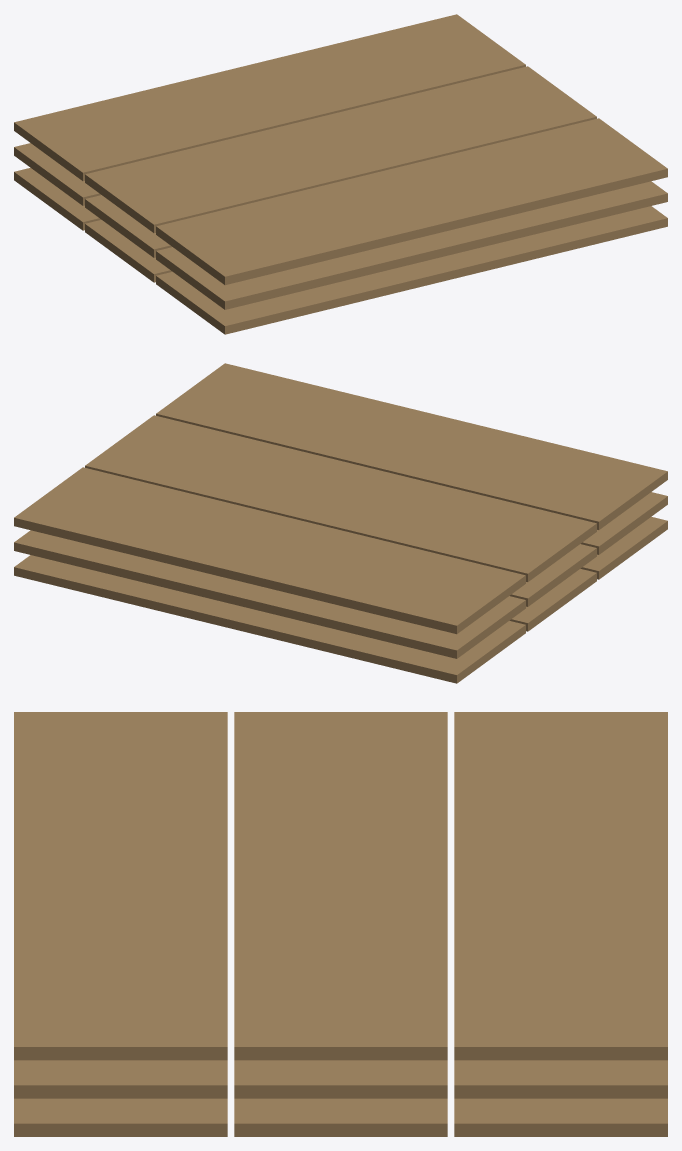
File: pallet-wooden-1200.glb
3 renders of one model, top to bottom at view 1: azimuth 30°, elevation 25°; view 2: azimuth 150°, elevation 25°; view 3: azimuth 270°, elevation 25°, orthographic. The views are drawn at different scales.
Parts seen in each view (by area): view 1: world; view 2: world; view 3: world.
Boxes of the visible parts, left/top/right/bottom form: world: left=14, top=14, right=667, bottom=334; world: left=14, top=363, right=667, bottom=683; world: left=14, top=712, right=667, bottom=1136.
Size of the model in its own units: 1200 by 150 by 990.
